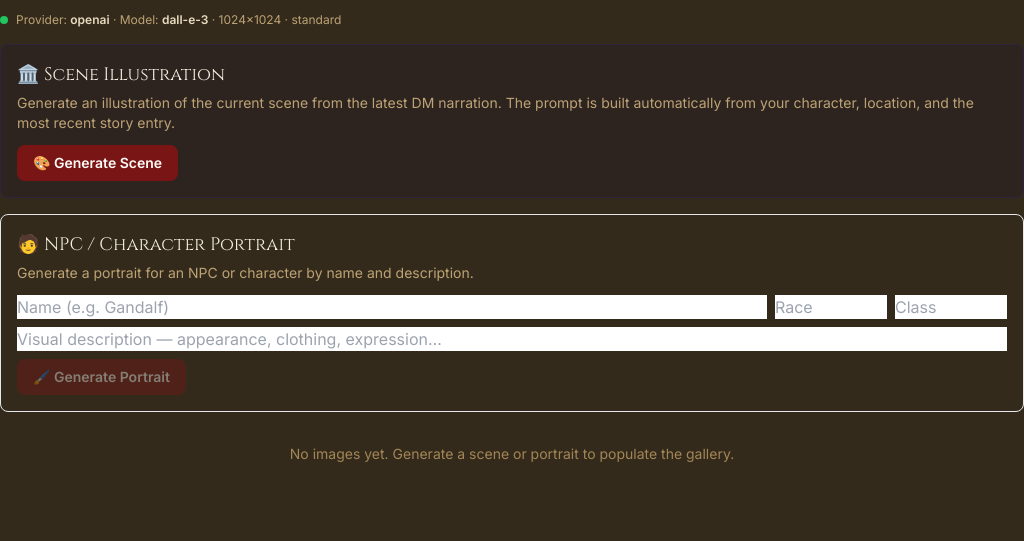
Test: ImagePanel › shows an error when scene generation fails with a 503
The image size is (1024, 541).
Expected: the text "openai" is shown, [70,12,110,27]
Click the button "🎨 Generate Scene" at (98, 163), box [17,145,178,181]
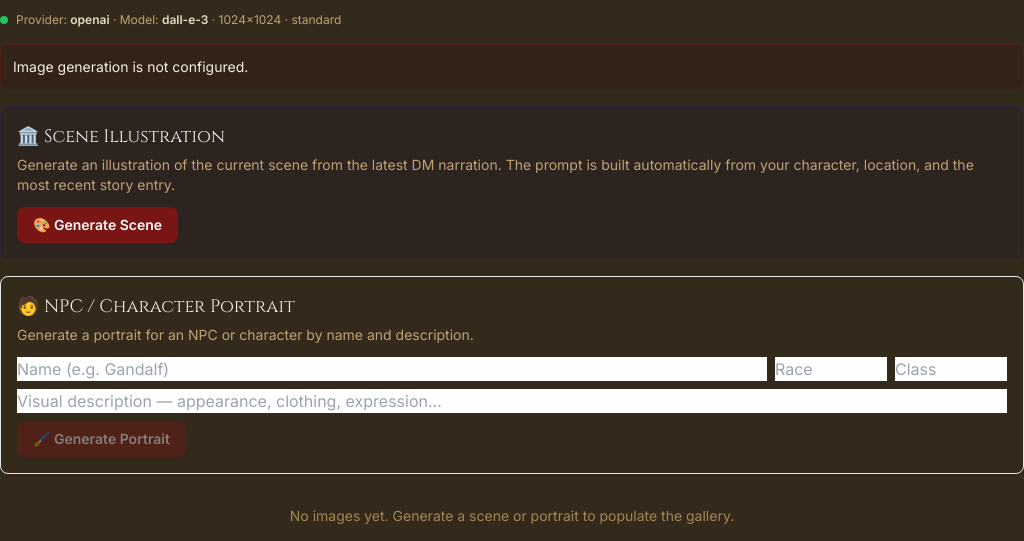
Result: the text "Image generation is not configured." is shown at [0,44,1023,90]
